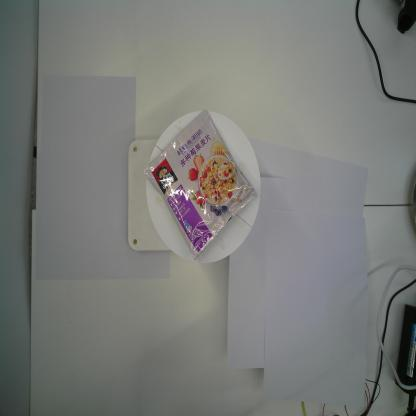Instant Drink: (142, 108, 256, 261)
